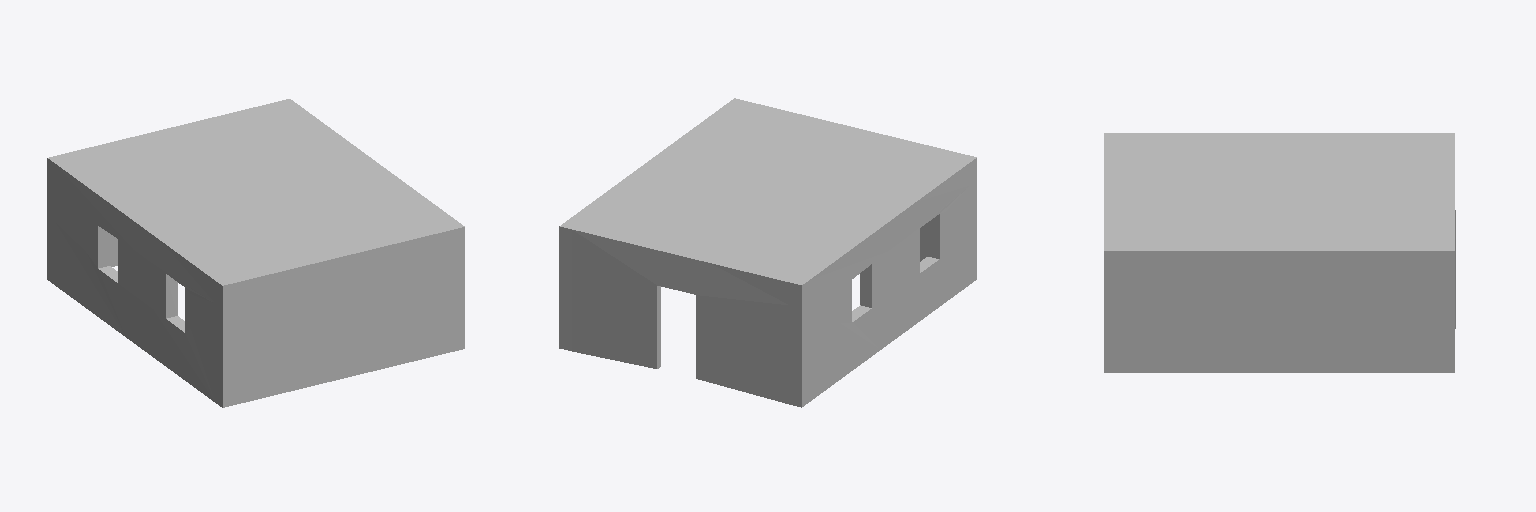
Rendered from room.obj.
3 renders of one model, left to right at view 1: azimuth 30°, elevation 25°; view 2: azimuth 150°, elevation 25°; view 3: azimuth 270°, elevation 25°, orthographic.
Visible parts, largest first — view 1: Mesh Mesh; view 2: Mesh Mesh; view 3: Mesh Mesh.
Part boxes in pixels (left/top/right/bottom): Mesh Mesh: left=47, top=99, right=464, bottom=407; Mesh Mesh: left=559, top=98, right=976, bottom=407; Mesh Mesh: left=1104, top=133, right=1455, bottom=372.
Bounding box in the file's own units: 7.08 × 3.56 × 8.88.